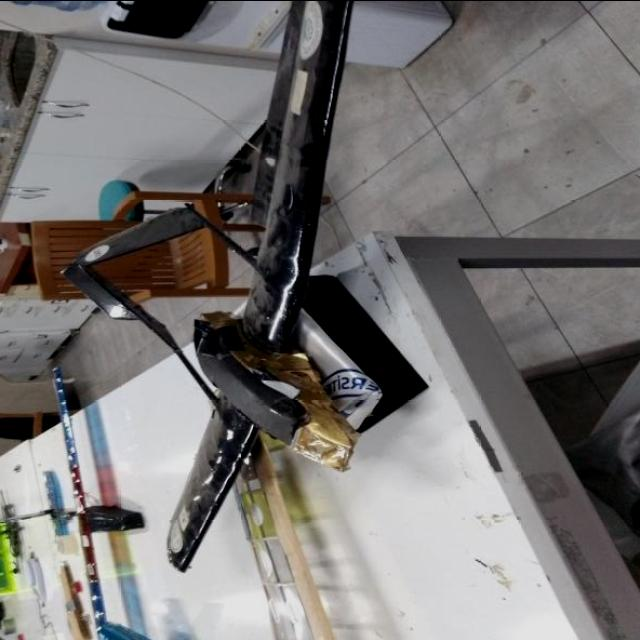plane: (58, 0, 420, 575)
